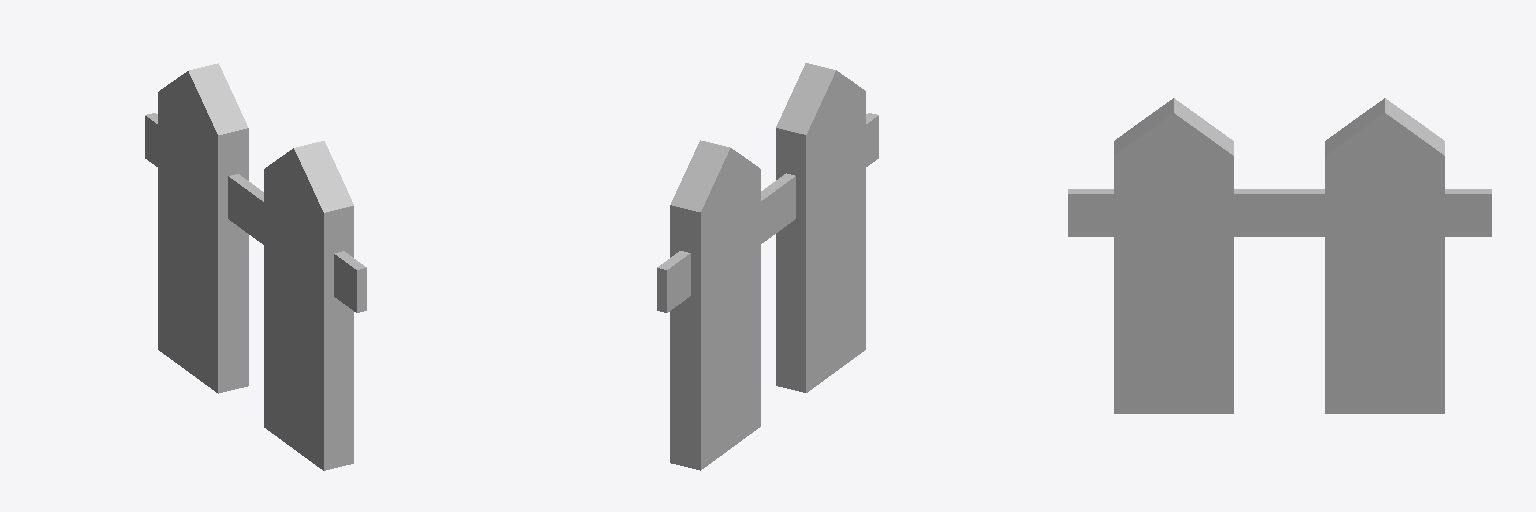
The model's file is fence.obj.
3 renders of one model, left to right at view 1: azimuth 30°, elevation 25°; view 2: azimuth 150°, elevation 25°; view 3: azimuth 270°, elevation 25°, orthographic.
Parts seen in each view (by area): view 1: Plane; view 2: Plane; view 3: Plane.
Part boxes in pixels (left/top/right/bottom): Plane: left=145, top=63, right=366, bottom=470; Plane: left=657, top=63, right=878, bottom=470; Plane: left=1068, top=98, right=1491, bottom=413.
Size of the model in its own units: 0.4617 by 4.34 by 5.54.